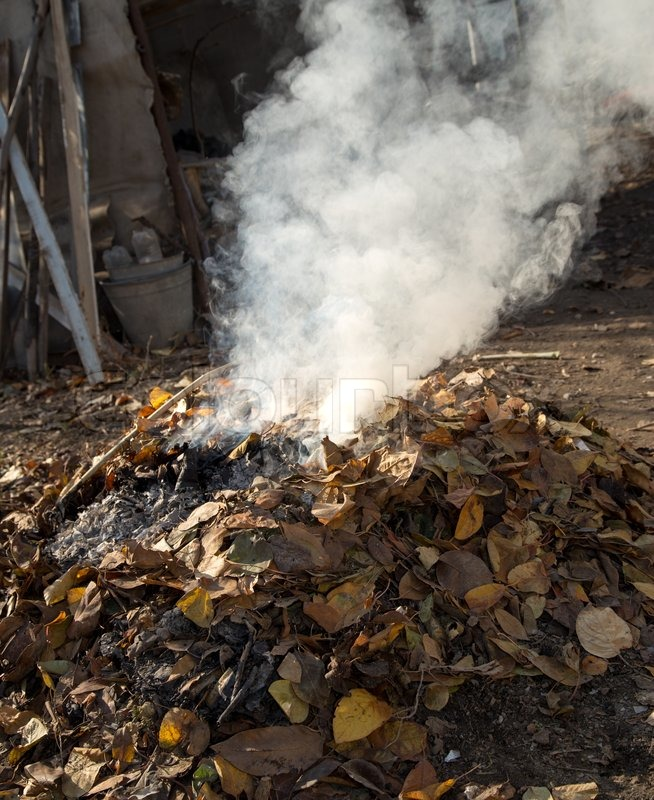smoke: (174, 4, 654, 450)
